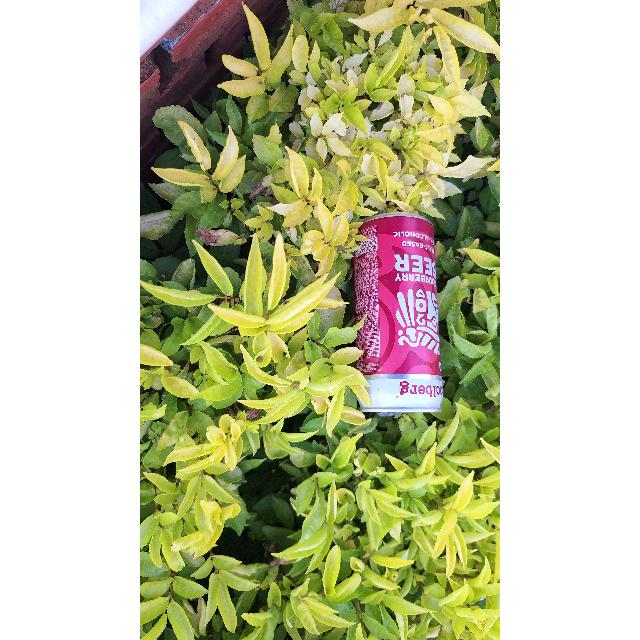Coolberg: (357, 212, 443, 406)
